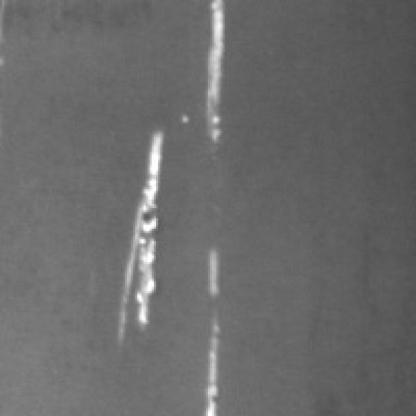scratches: (106, 125, 164, 326), (192, 245, 224, 412), (193, 0, 229, 144)
